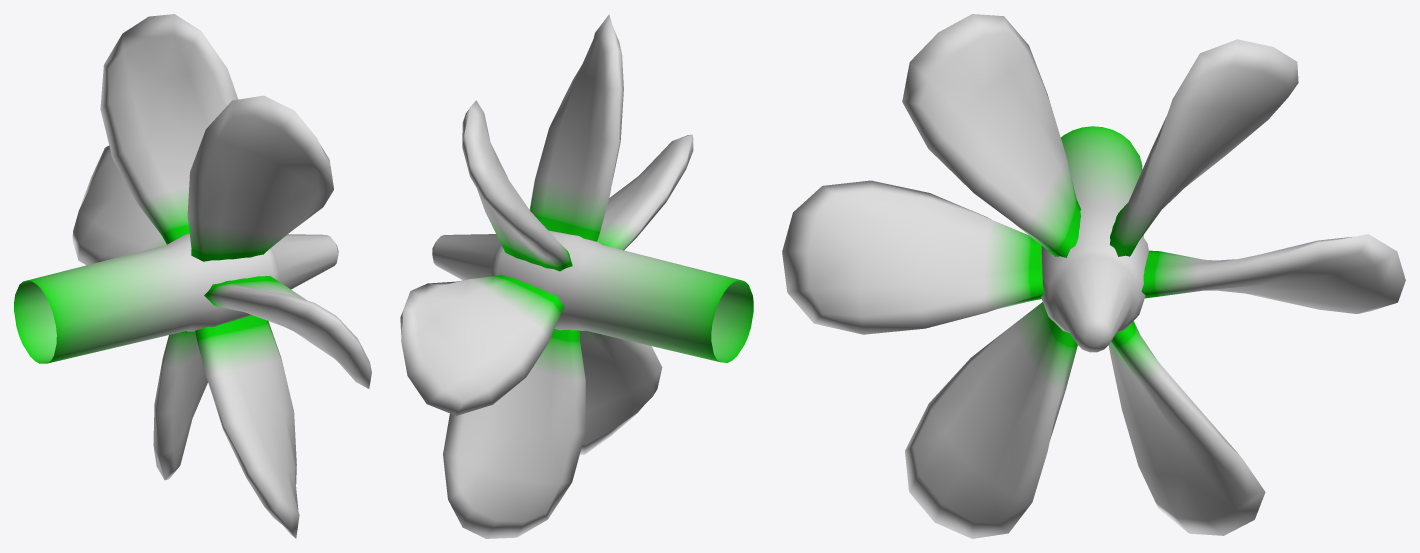
The model's file is SM_Submarine_Prop.fbx.
The picture shows the model from 3 angles, left to right: view 1: azimuth 30°, elevation 25°; view 2: azimuth 150°, elevation 25°; view 3: azimuth 270°, elevation 25°; orthographic projection. The views are drawn at different scales.
Visible parts, largest first — view 1: SM_Submarine_Prop_LOD0; view 2: SM_Submarine_Prop_LOD0; view 3: SM_Submarine_Prop_LOD0.
Part boxes in pixels (box(x1,y1,x2,y2)): SM_Submarine_Prop_LOD0: box(14, 14, 371, 538); SM_Submarine_Prop_LOD0: box(400, 14, 753, 538); SM_Submarine_Prop_LOD0: box(782, 14, 1405, 538).
Bounding box in the file's own units: 85.47 × 134 × 123.
